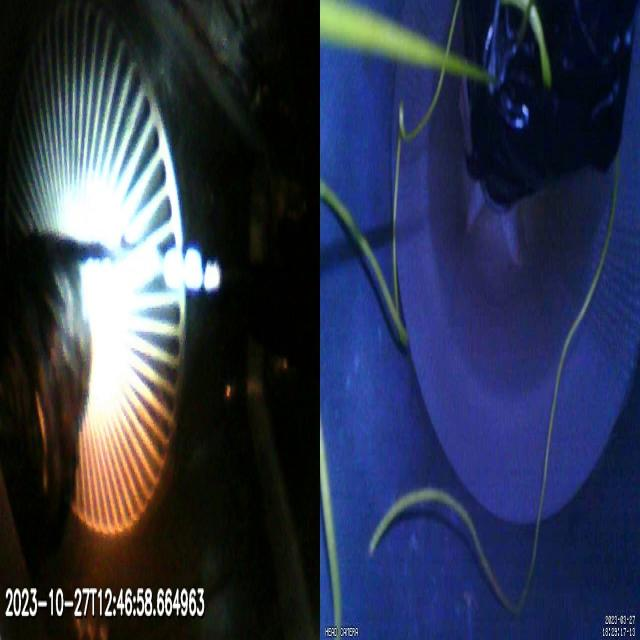white-dots: (163, 247, 221, 296)
